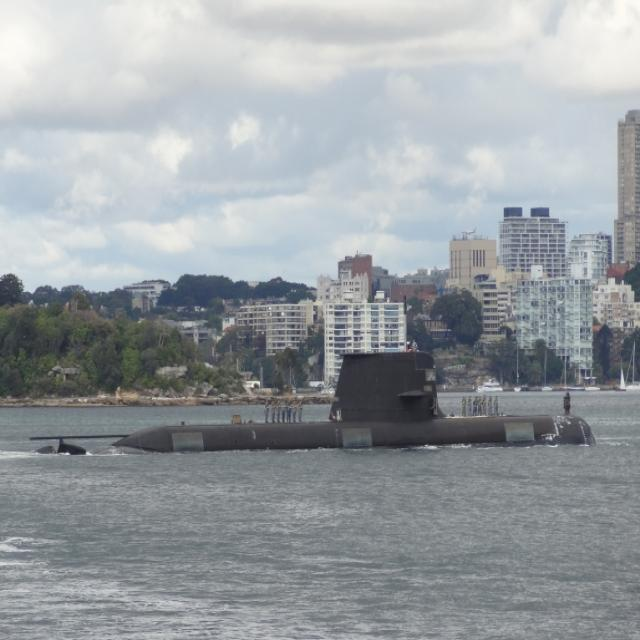submarine: (108, 355, 606, 450)
